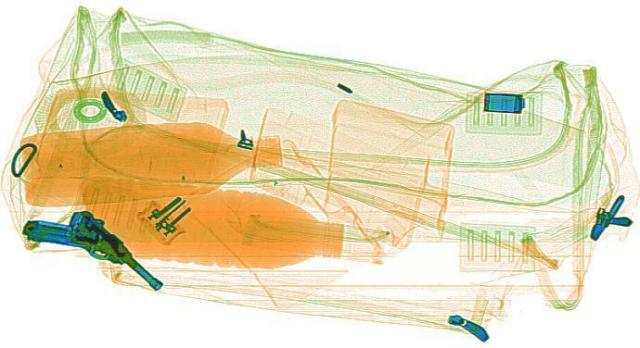Gun: (5, 198, 197, 299)
